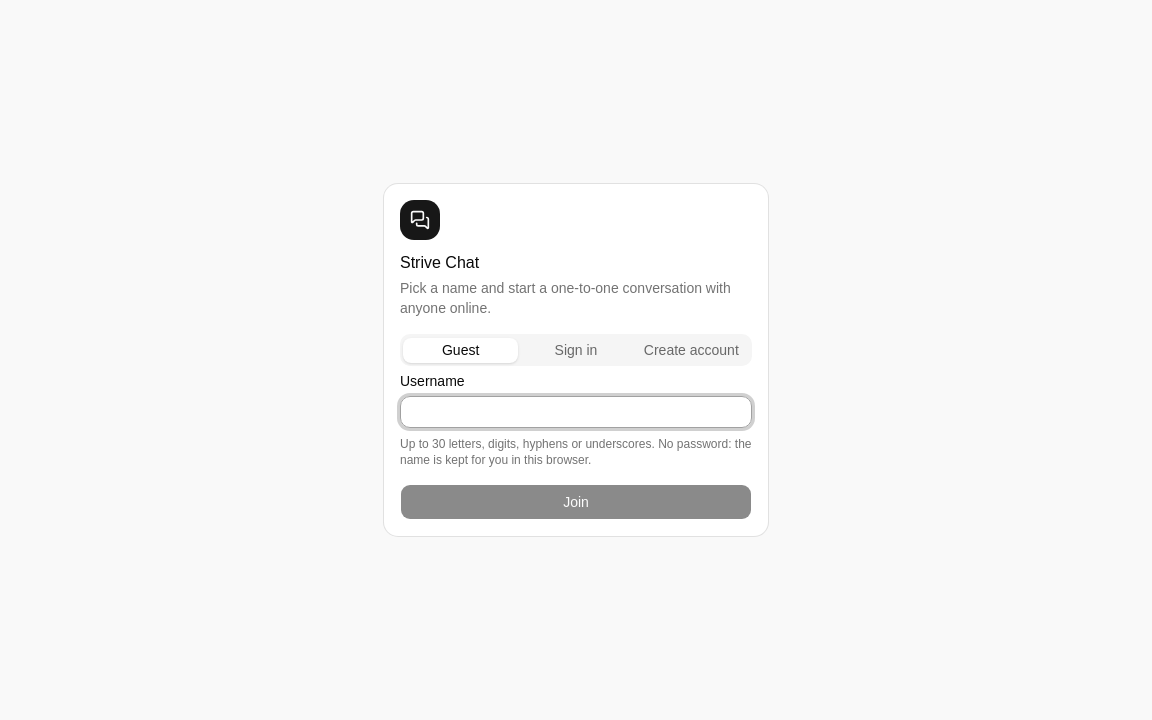
Test case: the chat list › is not shown at all while there are no conversations
This screenshot has width=1152, height=720.
In the field labelled "Username": (576, 412) [400,396,752,428], type "alice"
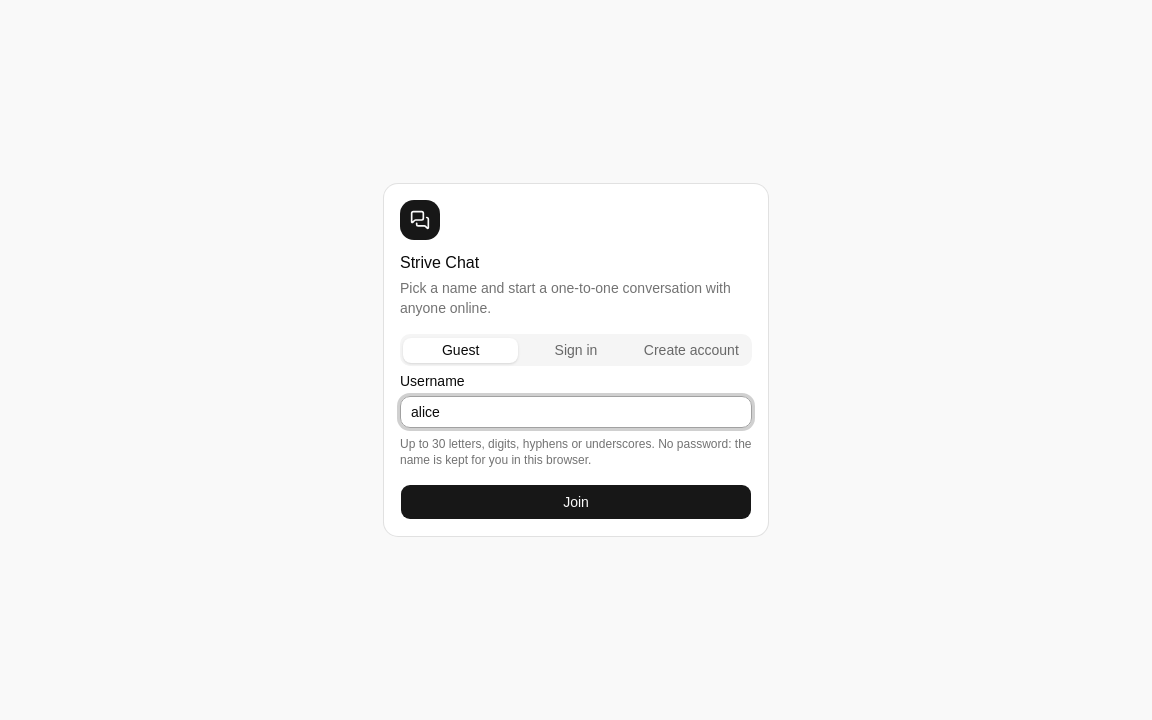
Click the button "Join": (576, 502) [400,484,752,520]
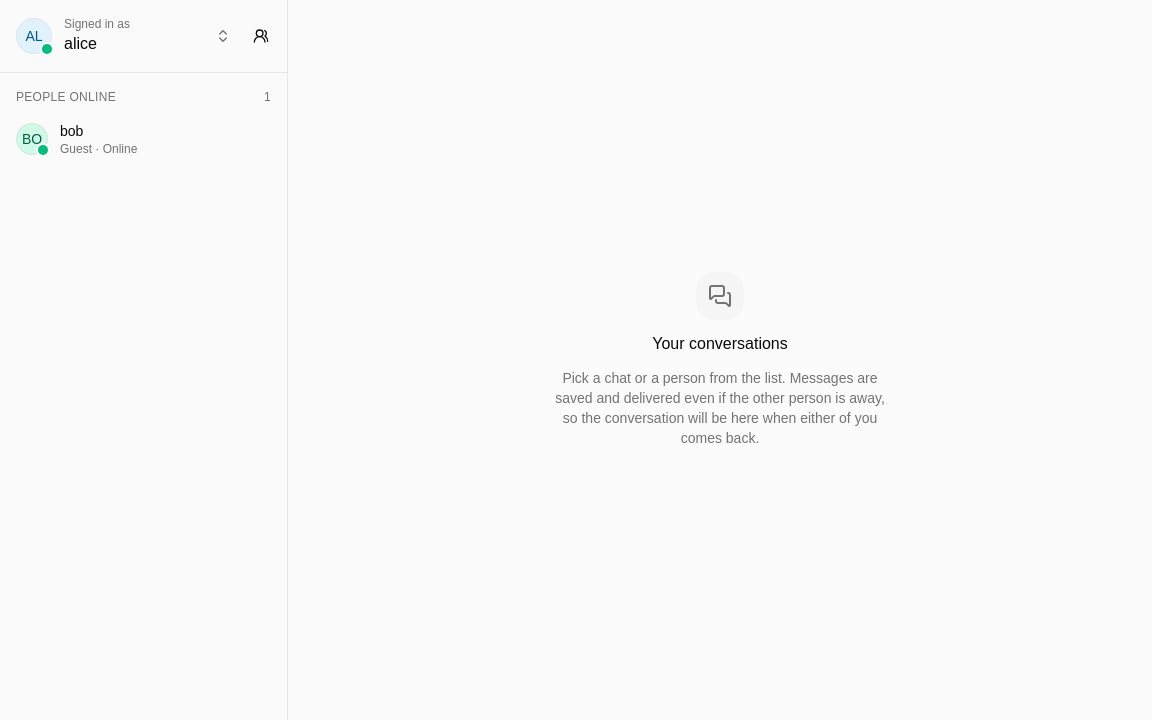
Expected: the navigation bar "People online" is shown, [0,73,287,173]
